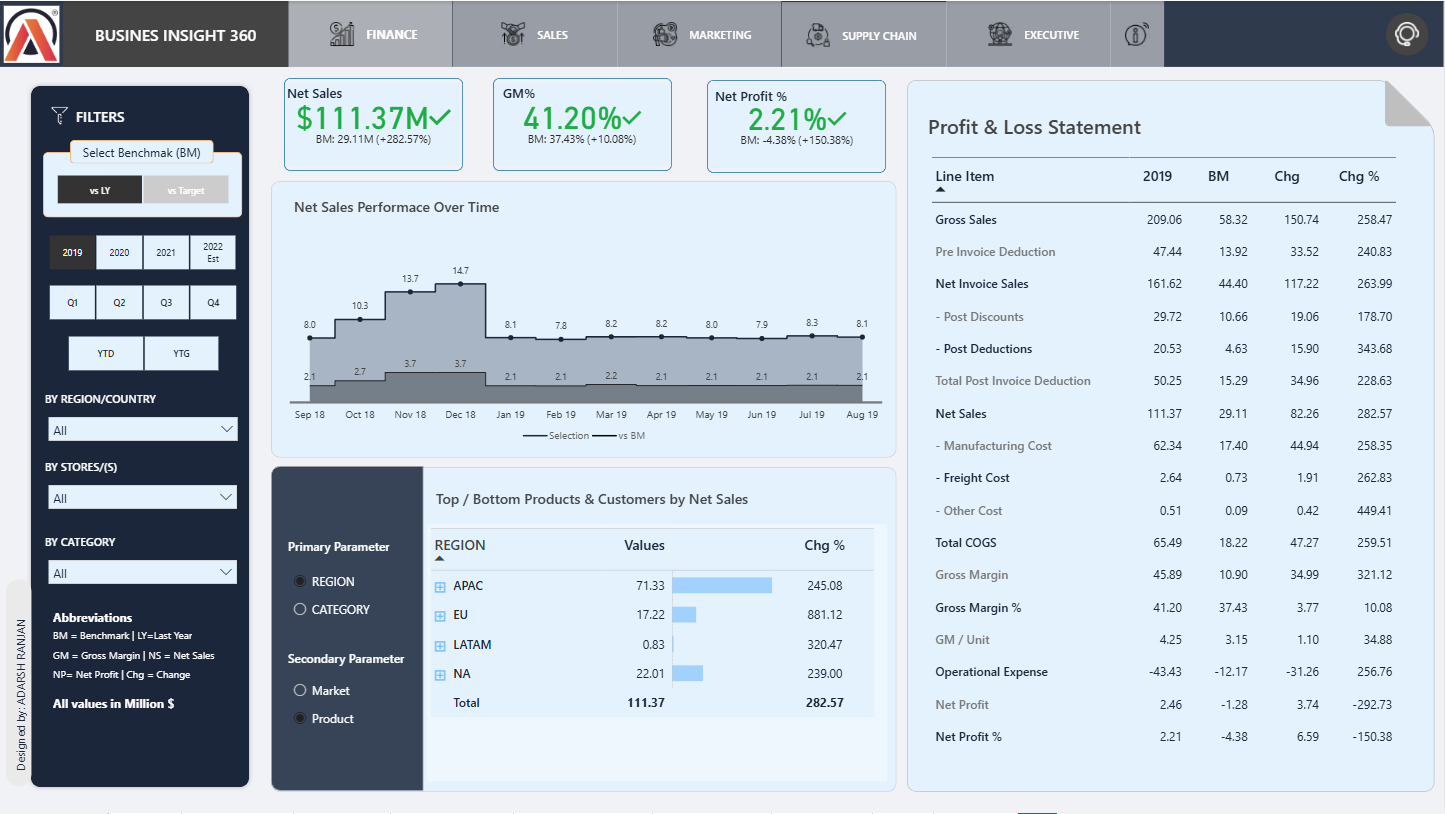

The page's visual inventory and layout, read from the dashboard file:
{"tool":"powerbi","page":{"name":"Finance View ","canvas":[1920,1080],"ordinal":1},"visuals":[{"type":"shape","box":[1206.4,104.7,701.7,946.7],"z":0,"group":"g2"},{"type":"shape","box":[56.8,200.9,265.1,87.1],"z":0,"group":"g3"},{"type":"shape","box":[360,619.5,832,432.2],"z":0},{"type":"slicer","fields":{"Values":["Parameter.Parameter"]},"box":[383.6,752.6,165,81.7],"z":0,"group":"g4"},{"type":"group","id":"g1","title":"Group 3","box":[70.8,831.5,265.1,74.2],"z":0,"group":"g6"},{"type":"shape","box":[71.1,831.5,263.3,24],"z":0,"group":"g1"},{"type":"shape","box":[1842.5,102.4,63.2,64.5],"z":1000,"group":"g2"},{"type":"shape","box":[34.5,106.3,303.3,945.7],"z":1000,"group":"g5"},{"type":"slicer","fields":{"Values":["Set BM.Benchmarks"]},"box":[56.1,230.4,266.5,41.4],"z":1000,"group":"g3"},{"type":"shape","box":[360,239.5,832,368],"z":1000},{"type":"shape","box":[383.5,704.3,165,40],"z":1000,"group":"g4"},{"type":"shape","box":[70.8,803,236.9,33.7],"z":1000,"group":"g6"},{"type":"shape","box":[70.8,857.8,263.6,22.8],"z":1000,"group":"g1"},{"type":"shape","box":[0,0,1920,87.7],"z":2000},{"type":"shape","box":[93.9,185.2,191,31.4],"z":2000,"group":"g3"},{"type":"slicer","fields":{"Values":["fiscal_year.fy_desc"]},"box":[44.9,310.1,287.3,48.5],"z":2000,"group":"g5"},{"type":"shape","box":[383.5,852.6,165,40],"z":2000,"group":"g4"},{"type":"shape","box":[70.8,882.9,265.1,22.8],"z":2000,"group":"g1"},{"type":"areaChart","fields":{"Category":["dim_date.date"],"Y":["Key Measures.P & L values","Key Measures.P & L BM"]},"box":[380.9,305.7,798.3,291.7],"z":3000},{"type":"slicer","fields":{"Values":["Secondary Parameter.Secondary Parameter"]},"box":[383.6,897.6,165,83.3],"z":3000,"group":"g4"},{"type":"shape","box":[70.3,917.2,237.4,32],"z":3000,"group":"g5"},{"type":"pivotTable","fields":{"Rows":["dim_market.region","dim_product.product","dim_customer.customer"],"Values":["Key Measures.P & L values","Key Measures.BARs for P & L values","Key Measures.P & L YoY Chg %"]},"box":[568,696.2,611.7,341.7],"z":4000},{"type":"image","box":[0,1.3,83.8,86.5],"z":5000},{"type":"slicer","fields":{"Values":["dim_date.quarters"]},"box":[44.9,376.9,287.9,48.5],"z":5000,"group":"g5"},{"type":"shape","box":[390.9,258.6,417.5,31.6],"z":6000},{"type":"slicer","fields":{"Values":["dim_date.ytd_ytg"]},"box":[70.5,443.8,239.4,48.5],"z":7000,"group":"g5"},{"type":"shape","box":[579.7,646.2,588.3,31.7],"z":7000},{"type":"shape","box":[360,618.5,202.9,432],"z":8000},{"type":"actionButton","box":[383.6,0,218.6,88],"z":9000},{"type":"slicer","title":"BY REGION/COUNTRY","fields":{"Values":["dim_market.region","dim_market.market"]},"box":[60,518.7,266,91],"z":9000,"group":"g5"},{"type":"actionButton","box":[602.3,0,218.6,88],"z":10000},{"type":"actionButton","box":[820.9,0,218.6,88],"z":11000},{"type":"slicer","title":"BY CATEGORY","fields":{"Values":["dim_product.segment"]},"box":[60,708.5,264.9,91],"z":11000,"group":"g5"},{"type":"actionButton","box":[1039.5,1.3,218.6,88],"z":12000},{"type":"actionButton","box":[1258.2,0,218.6,88],"z":13000},{"type":"slicer","title":"BY STORES/(S)","fields":{"Values":["dim_customer.customer"]},"box":[60,608.6,264.9,99.9],"z":13000,"group":"g5"},{"type":"shape","box":[83.2,0,300,87.6],"z":14000},{"type":"actionButton","box":[1476.4,0,72.4,88.2],"z":15000},{"type":"shape","box":[101.3,126.4,70.9,52.6],"z":15000,"group":"g5"},{"type":"group","id":"g2","title":"Group 2","box":[1206.4,102.4,700.9,948.3],"z":16000},{"type":"group","id":"g3","title":"Group 1","box":[56.1,185.2,266.5,102.7],"z":17000,"group":"g5"},{"type":"pivotTable","fields":{"Rows":["P & L Rows.Line Item"],"Columns":["P & L Columns.Col Header"],"Values":["Key Measures.P & L Final Value"]},"box":[1233.8,202.8,648.3,835],"z":17000},{"type":"shape","box":[1233.8,137.8,340,53.3],"z":18000},{"type":"image","box":[59.2,133,39.4,39.5],"z":19000,"group":"g5"},{"type":"group","id":"g4","title":"Param group","box":[383.5,704.3,165.1,276.7],"z":19000},{"type":"group","id":"g5","title":"Group 6","box":[34.5,106.3,303.3,945.7],"z":22000},{"type":"kpi","fields":{"Indicator":["Key Measures.NS $"],"TrendLine":["dim_date.fiscal_year"],"Goal":["Key Measures.NS BM $"]},"box":[381.7,109.1,230.1,110.4],"z":23000},{"type":"kpi","fields":{"TrendLine":["dim_date.fiscal_year"],"Indicator":["Key Measures.GM %"],"Goal":["Key Measures.GM % BM"]},"box":[655.7,109.1,236.7,110.4],"z":24000},{"type":"kpi","fields":{"TrendLine":["dim_date.fiscal_year"],"Indicator":["Key Measures.Net Profit %"],"Goal":["Key Measures.NP % BM"]},"box":[941.7,109.1,236.7,114.4],"z":25000},{"type":"shape","box":[940.3,105.1,238.1,123.7],"z":26000},{"type":"shape","box":[655.7,102.4,238.1,123.7],"z":27000},{"type":"shape","box":[377.7,102.4,238.1,123.7],"z":28000},{"type":"actionButton","title":"AB Signature","box":[8.6,768.9,34.5,275.9],"z":29000},{"type":"actionButton","title":"Support Button","box":[1844,16,56.6,56.6],"z":30000},{"type":"shape","box":[382.2,106.3,240.5,31.6],"z":31000},{"type":"shape","box":[669.5,106.3,240.5,31.6],"z":32000},{"type":"shape","box":[950.5,110.1,240.5,31.6],"z":33000},{"type":"group","id":"g6","title":"Group 5","box":[70.8,803,265.1,102.7],"z":37002,"group":"g5"}]}

Visuals, with their boxes on the page's 1920x1080 design canvas (x1, y1, x2, y2). These are canvas units, not pixel positions in the 1445x814 screenshot, which may show the page scaled, cropped or inside an application window:
shape: box=[1206, 105, 1908, 1051]
shape: box=[57, 201, 322, 288]
shape: box=[360, 620, 1192, 1052]
slicer - Parameter.Parameter: box=[384, 753, 549, 834]
"Group 3" group: box=[71, 832, 336, 906]
shape: box=[71, 832, 334, 856]
shape: box=[1842, 102, 1906, 167]
shape: box=[34, 106, 338, 1052]
slicer - Set BM.Benchmarks: box=[56, 230, 323, 272]
shape: box=[360, 240, 1192, 608]
shape: box=[384, 704, 548, 744]
shape: box=[71, 803, 308, 837]
shape: box=[71, 858, 334, 881]
shape: box=[0, 0, 1920, 88]
shape: box=[94, 185, 285, 217]
slicer - fiscal_year.fy_desc: box=[45, 310, 332, 359]
shape: box=[384, 853, 548, 893]
shape: box=[71, 883, 336, 906]
areaChart - dim_date.date x Key Measures.P & L values: box=[381, 306, 1179, 597]
slicer - Secondary Parameter.Secondary Parameter: box=[384, 898, 549, 981]
shape: box=[70, 917, 308, 949]
pivotTable - dim_market.region x dim_product.product: box=[568, 696, 1180, 1038]
image: box=[0, 1, 84, 88]
slicer - dim_date.quarters: box=[45, 377, 333, 425]
shape: box=[391, 259, 808, 290]
slicer - dim_date.ytd_ytg: box=[70, 444, 310, 492]
shape: box=[580, 646, 1168, 678]
shape: box=[360, 618, 563, 1050]
actionButton: box=[384, 0, 602, 88]
"BY REGION/COUNTRY" slicer: box=[60, 519, 326, 610]
actionButton: box=[602, 0, 821, 88]
actionButton: box=[821, 0, 1040, 88]
"BY CATEGORY" slicer: box=[60, 708, 325, 800]
actionButton: box=[1040, 1, 1258, 89]
actionButton: box=[1258, 0, 1477, 88]
"BY STORES/(S)" slicer: box=[60, 609, 325, 708]
shape: box=[83, 0, 383, 88]
actionButton: box=[1476, 0, 1549, 88]
shape: box=[101, 126, 172, 179]
"Group 2" group: box=[1206, 102, 1907, 1051]
"Group 1" group: box=[56, 185, 323, 288]
pivotTable - P & L Rows.Line Item x P & L Columns.Col Header: box=[1234, 203, 1882, 1038]
shape: box=[1234, 138, 1574, 191]
image: box=[59, 133, 99, 172]
"Param group" group: box=[384, 704, 549, 981]
"Group 6" group: box=[34, 106, 338, 1052]
kpi - Key Measures.NS $ x dim_date.fiscal_year: box=[382, 109, 612, 220]
kpi - dim_date.fiscal_year x Key Measures.GM %: box=[656, 109, 892, 220]
kpi - dim_date.fiscal_year x Key Measures.Net Profit %: box=[942, 109, 1178, 224]
shape: box=[940, 105, 1178, 229]
shape: box=[656, 102, 894, 226]
shape: box=[378, 102, 616, 226]
"AB Signature" actionButton: box=[9, 769, 43, 1045]
"Support Button" actionButton: box=[1844, 16, 1901, 73]
shape: box=[382, 106, 623, 138]
shape: box=[670, 106, 910, 138]
shape: box=[950, 110, 1191, 142]
"Group 5" group: box=[71, 803, 336, 906]
